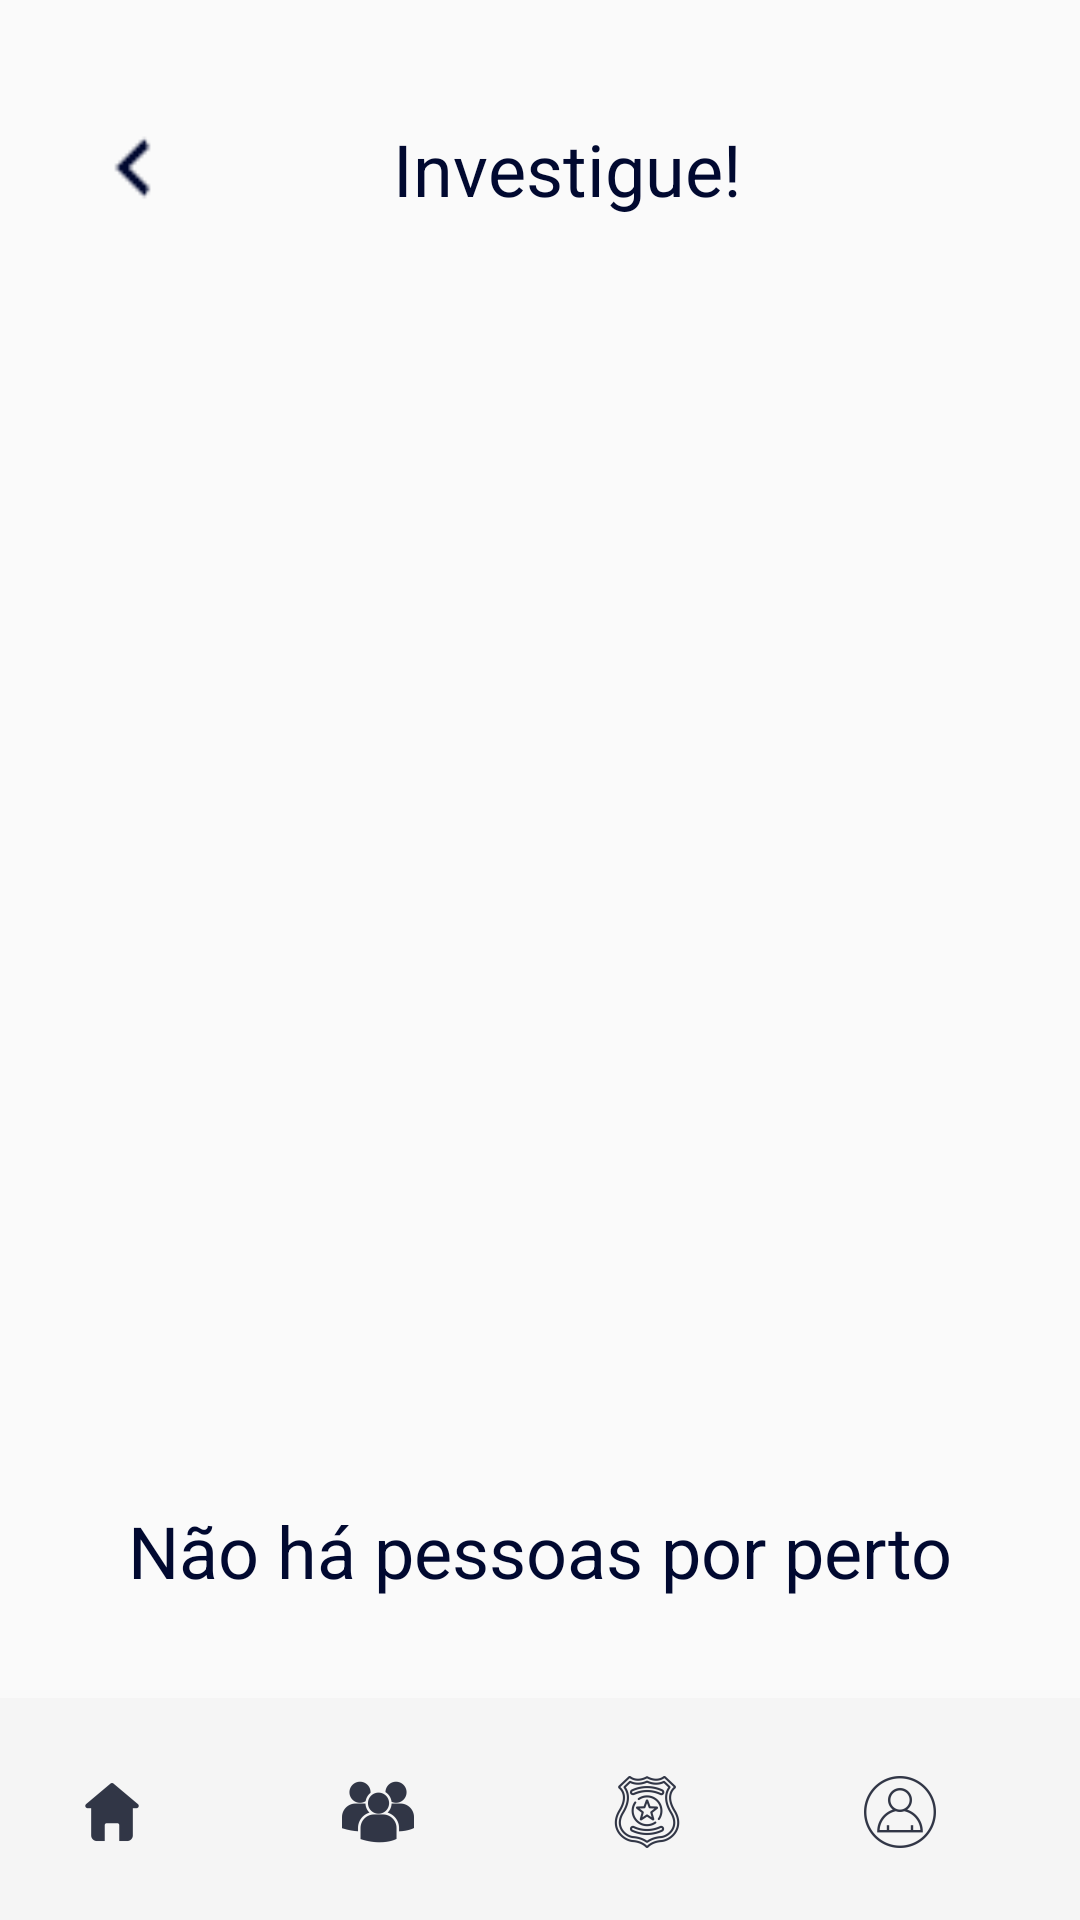

Point at icon controls on the screen. Image size 1080px×1920px, points as (x=x, y=y).
iconseta: (x=133, y=168)
